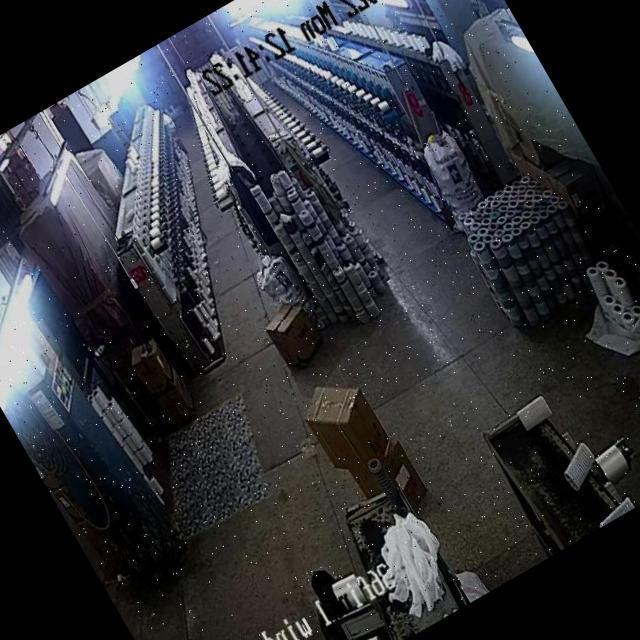person: (292, 564, 354, 634)
